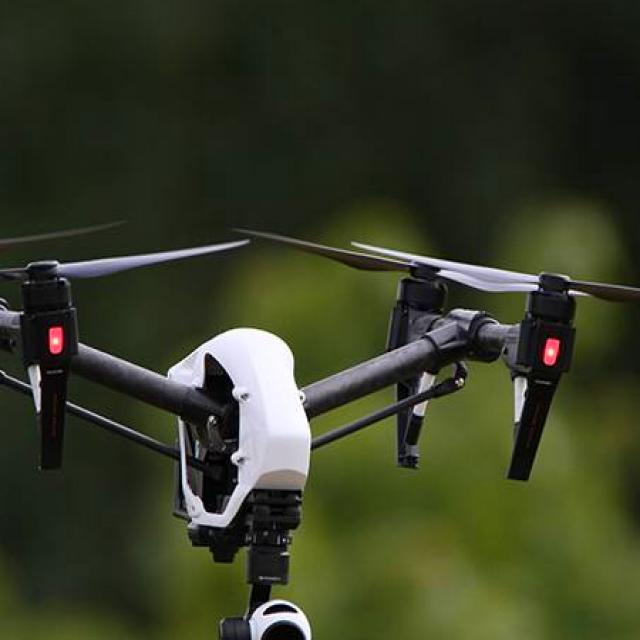drone: (0, 166, 640, 538)
